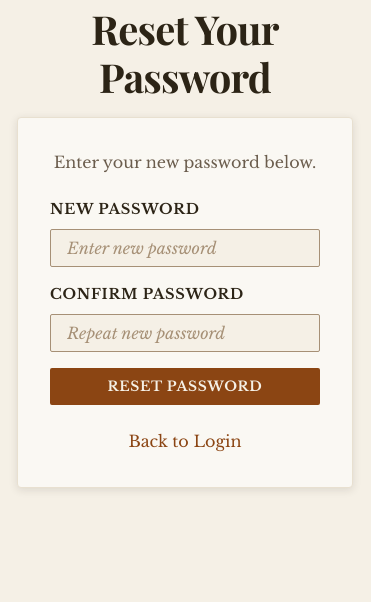
Scenario: PasswordResetConfirm › form validation › should show error when password is too short
Type "short" into the password field labelled "New Password". click: (185, 248)
box: [50,229,320,267]
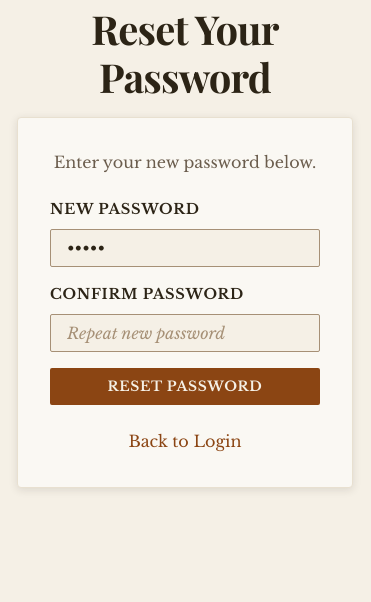
Submit the form, box [50,198,320,405]
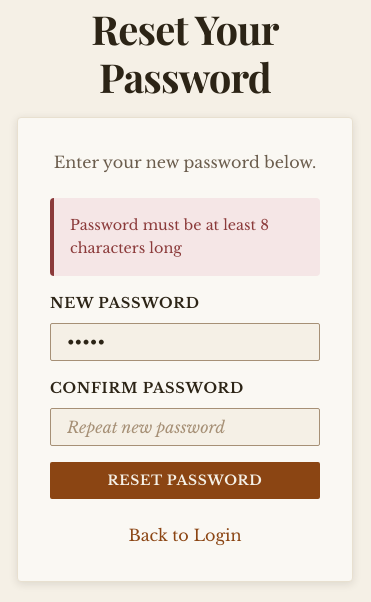
Expected: the text "Password must be at least 8 characters long" is shown, [50,198,320,276]
